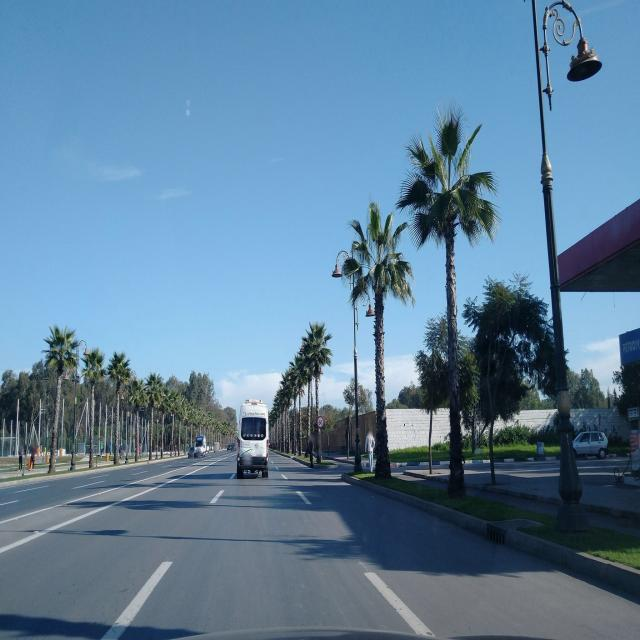car: (235, 400, 269, 479), (572, 430, 608, 460), (192, 436, 208, 458)
